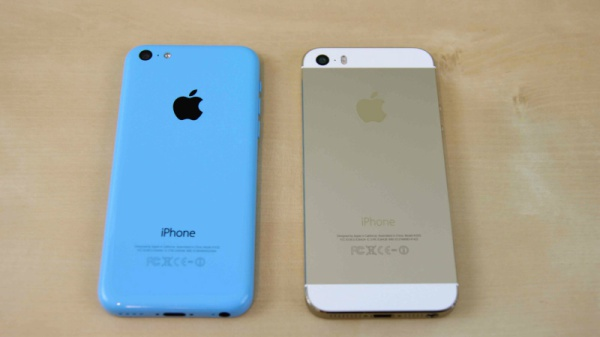apple: (168, 82, 223, 133), (347, 89, 398, 128)
